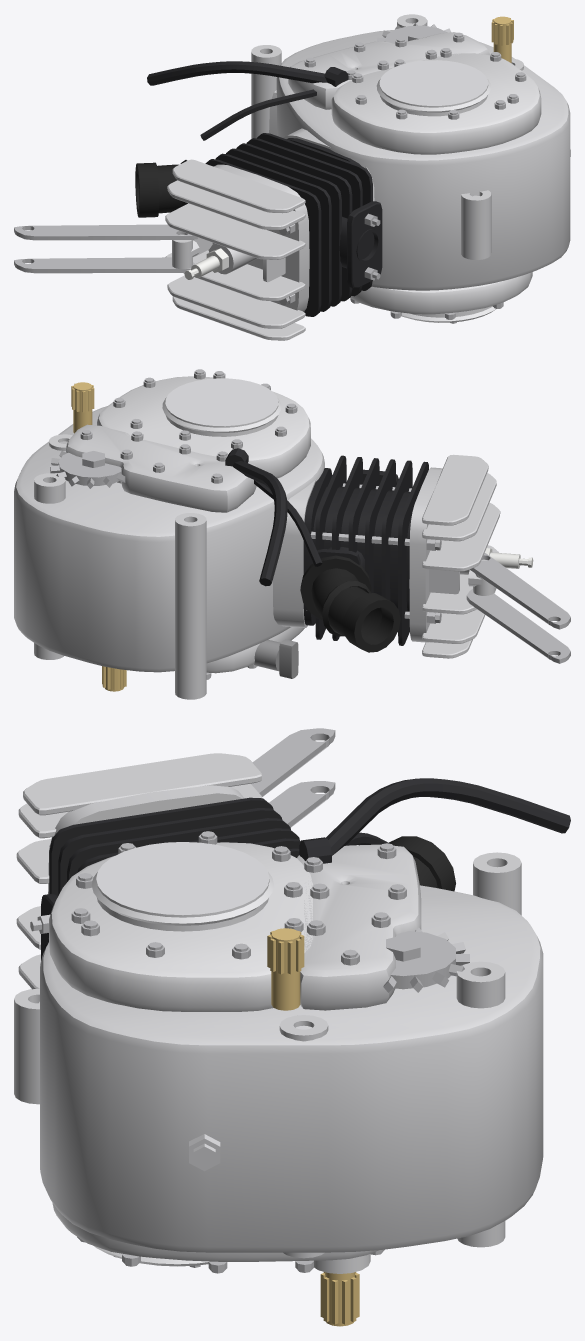
The model's file is Motor_AX100.fbx.
The picture shows the model from 3 angles, top to bottom: view 1: azimuth 30°, elevation 25°; view 2: azimuth 150°, elevation 25°; view 3: azimuth 270°, elevation 25°; orthographic projection. The views are drawn at different scales.
Visible parts, largest first — view 1: Carter, Culata, Tapa_Magneto, Cilindro, Platina_Soporte_Superior, Tapa_Clutch, Tapa_Pinon, Cable_Magneto, Toma_Admision, Tornilleria, Eje_Cambios, Pinon (+1 smaller); view 2: Carter, Culata, Tapa_Magneto, Cilindro, Tapa_Pinon, Toma_Admision, Platina_Soporte_Superior, Cable_Magneto, Pinon, Tornilleria, Tapon_Aceite, Tapa_Clutch (+4 smaller); view 3: Carter, Tapa_Magneto, Tapa_Pinon, Culata, Cilindro, Cable_Magneto, Tornilleria, Platina_Soporte_Superior, Tapa_Clutch, Pinon, Eje_Cambios, Eje_Arranque (+1 smaller).
Part boxes in pixels (x1,y1,x2,y2): Carter: (251, 14, 570, 290); Culata: (165, 159, 309, 340); Tapa_Magneto: (331, 53, 541, 154); Cilindro: (205, 133, 382, 316); Platina_Soporte_Superior: (14, 224, 197, 273); Tapa_Clutch: (350, 272, 532, 322); Tapa_Pinon: (288, 32, 489, 109); Cable_Magneto: (147, 61, 348, 140); Toma_Admision: (135, 160, 187, 217); Tornilleria: (304, 32, 526, 323); Eje_Cambios: (491, 16, 513, 62); Pinon: (377, 23, 450, 43); Carter: (14, 406, 324, 699); Culata: (409, 454, 500, 658); Tapa_Magneto: (97, 376, 310, 478); Cilindro: (303, 455, 428, 645); Tapa_Pinon: (66, 424, 256, 512); Toma_Admision: (300, 555, 400, 652); Platina_Soporte_Superior: (466, 553, 570, 663); Cable_Magneto: (225, 448, 322, 586); Pinon: (50, 451, 125, 488); Tornilleria: (80, 369, 297, 679); Tapon_Aceite: (254, 639, 298, 678); Tapa_Clutch: (206, 627, 304, 673); Carter: (14, 852, 543, 1258); Tapa_Magneto: (49, 842, 312, 1011); Tapa_Pinon: (297, 844, 421, 1010); Culata: (16, 753, 261, 989); Cilindro: (41, 797, 300, 960); Cable_Magneto: (299, 778, 570, 863); Tornilleria: (71, 831, 406, 1273); Platina_Soporte_Superior: (251, 728, 335, 827); Tapa_Clutch: (52, 1202, 379, 1273); Pinon: (383, 927, 469, 992); Eje_Cambios: (267, 928, 304, 1010); Eje_Arranque: (320, 1272, 359, 1326).
Size of the model in its own units: 0.524 by 0.258 by 0.3083.
